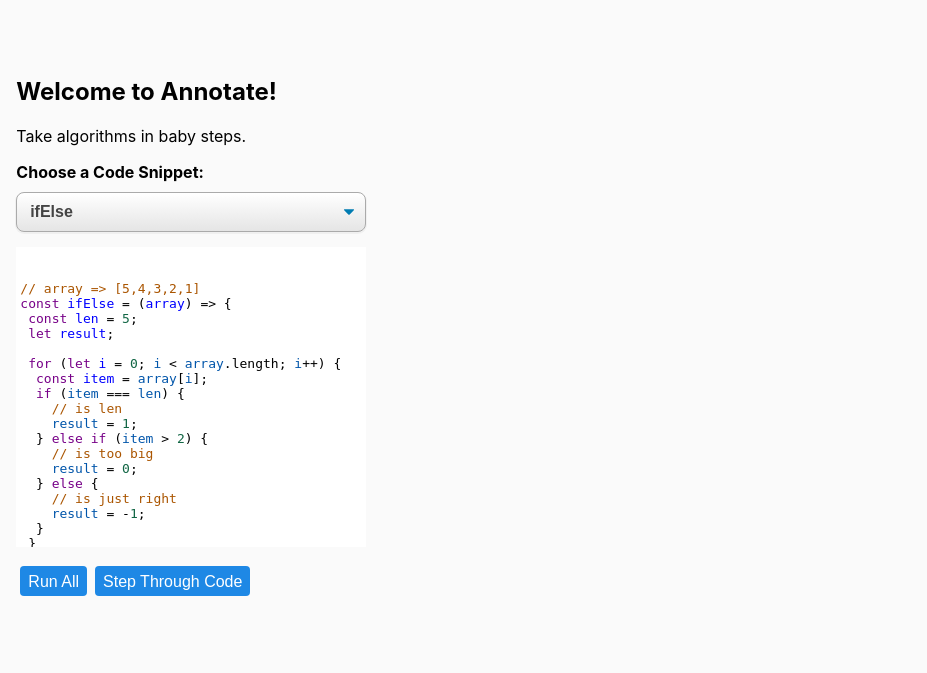
Test: <App /> › when the api call results in an error › should display an error
Click the button "Run All".
click(54, 581)  # box x1=20 y1=566 x2=87 y2=596
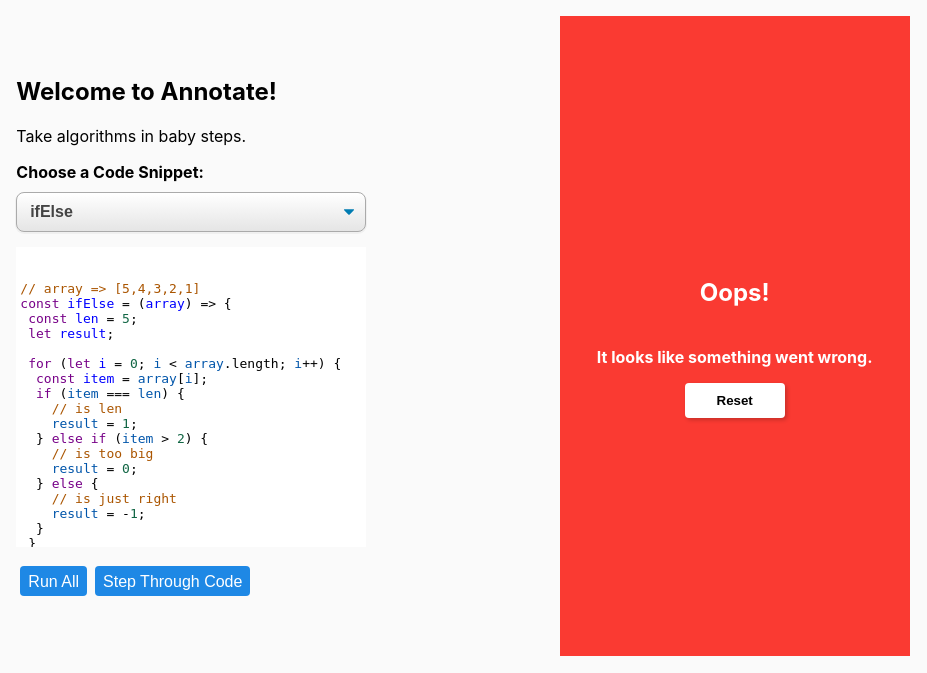
Check: the heading "Oops!" is shown, box x1=700 y1=278 x2=770 y2=307
